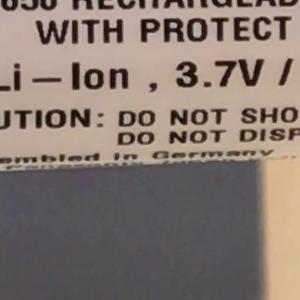3.7V: (166, 49, 271, 98)
